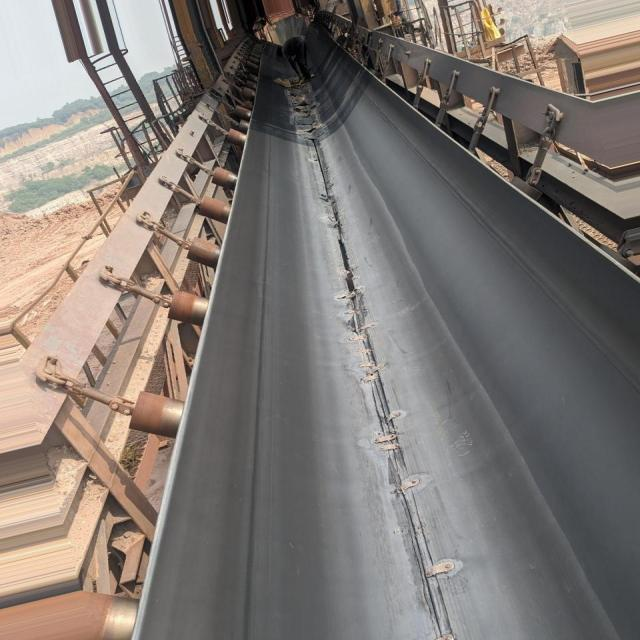Human: (257, 16, 324, 75)
Roller: (132, 65, 260, 430)
Tear: (302, 138, 371, 310)
patch work: (350, 304, 467, 610), (290, 72, 337, 143)
